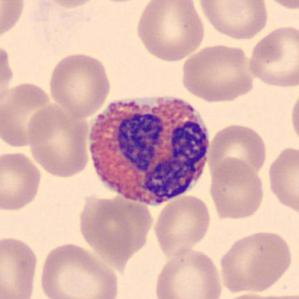Eosinophil: (82, 88, 214, 212)
RBC: (217, 228, 294, 295), (75, 192, 153, 258), (25, 101, 91, 179), (36, 240, 121, 299), (178, 42, 256, 103), (46, 49, 113, 118), (134, 1, 207, 63), (206, 156, 266, 221), (1, 80, 56, 150), (206, 122, 269, 183), (152, 246, 224, 299), (152, 193, 212, 256), (246, 23, 298, 90), (195, 0, 270, 41), (0, 149, 43, 213), (0, 233, 40, 299), (265, 143, 299, 218), (0, 0, 27, 42), (0, 42, 15, 113), (288, 86, 299, 147), (36, 0, 104, 9), (217, 291, 285, 299), (259, 0, 299, 11)
